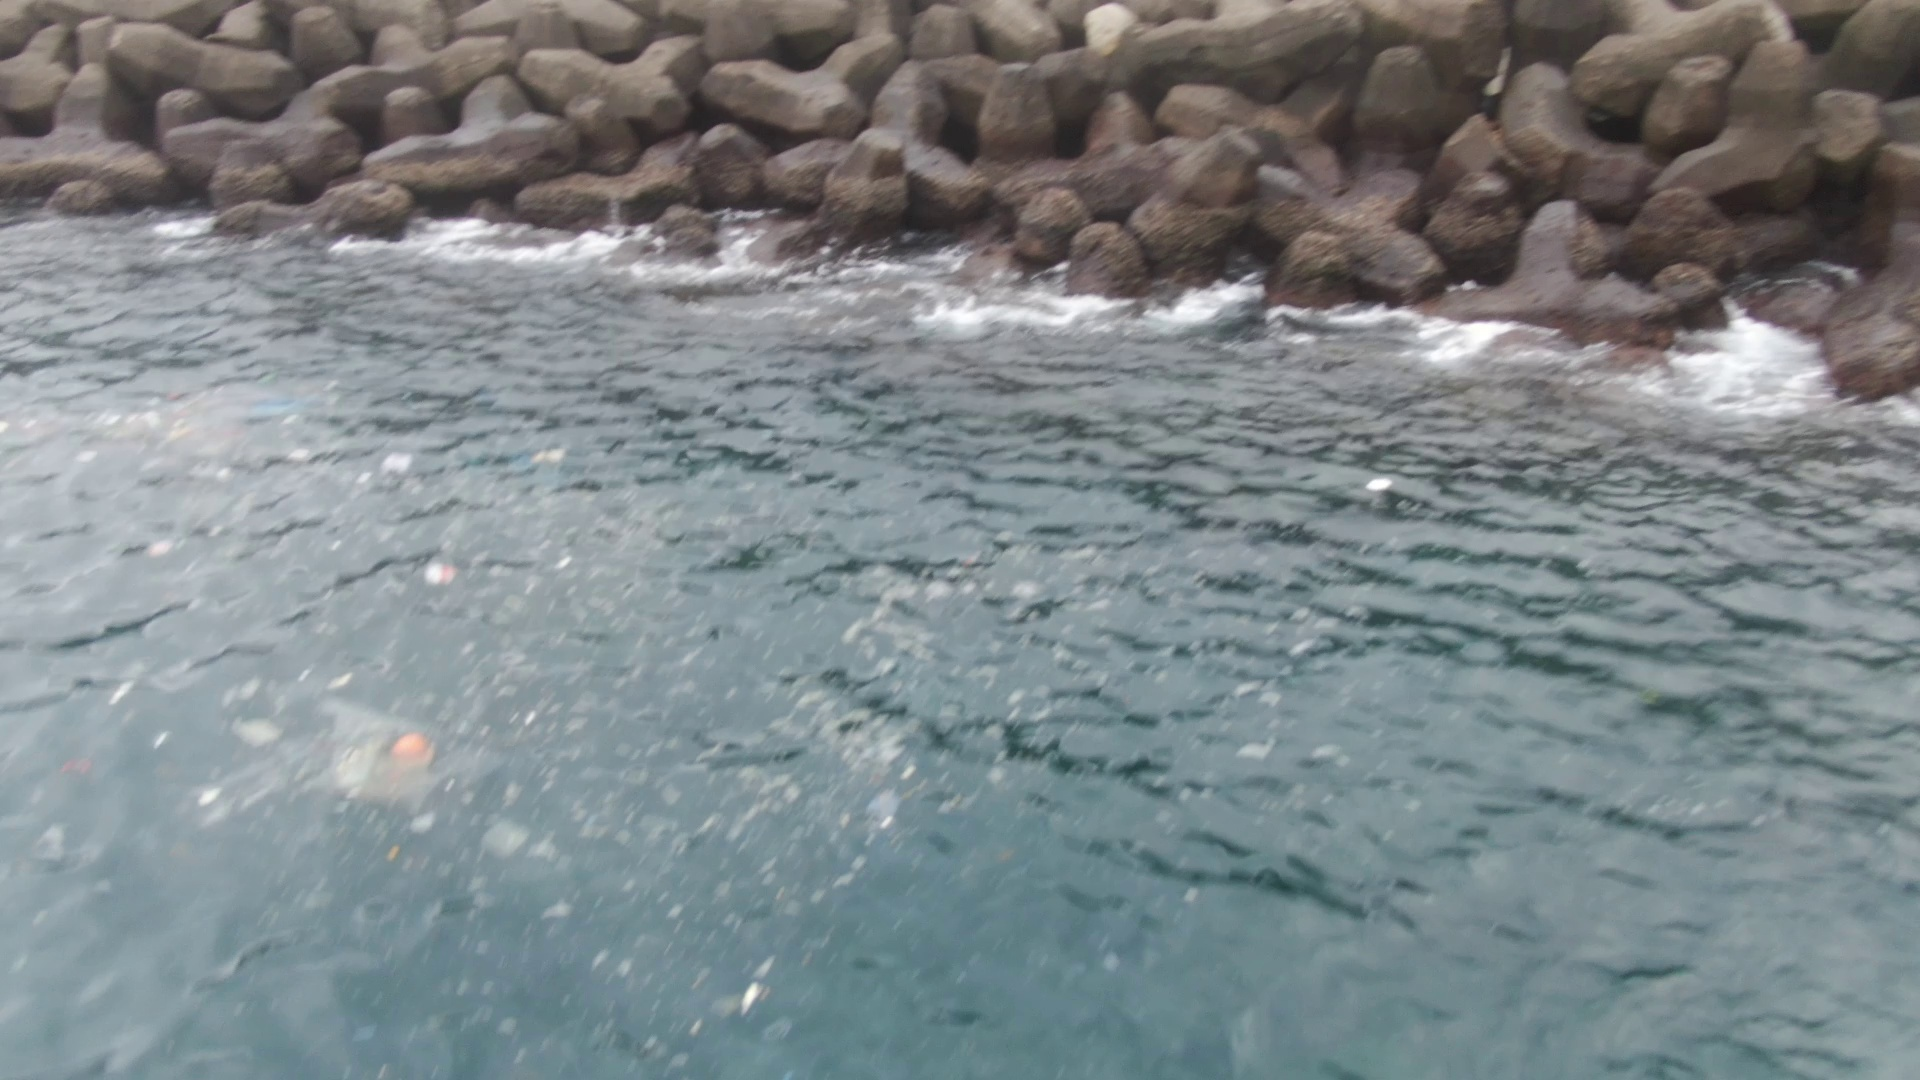garbage: (382, 723, 450, 793)
